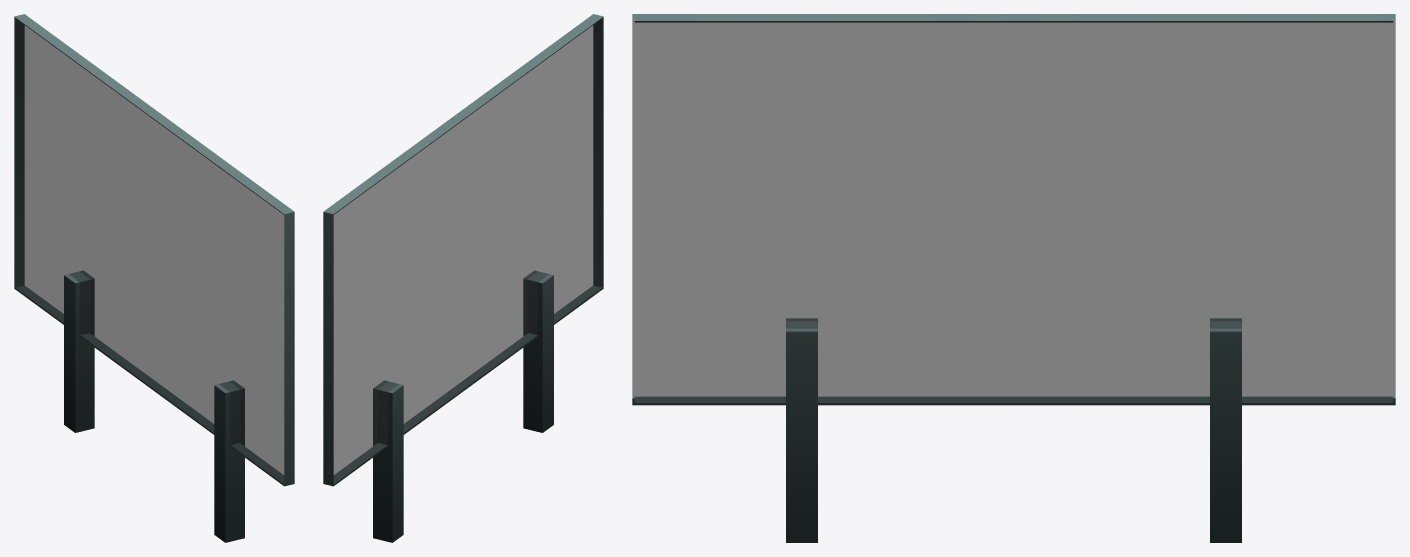
Rendered from TSP_House_Rail_01A.fbx.
The picture shows the model from 3 angles, left to right: view 1: azimuth 30°, elevation 25°; view 2: azimuth 150°, elevation 25°; view 3: azimuth 270°, elevation 25°; orthographic projection. The views are drawn at different scales.
Visible parts, largest first — view 1: TSP_House_Rail_01A; view 2: TSP_House_Rail_01A; view 3: TSP_House_Rail_01A.
Part boxes in pixels (bbox=[...]): TSP_House_Rail_01A: bbox=[14, 14, 294, 542]; TSP_House_Rail_01A: bbox=[323, 14, 603, 542]; TSP_House_Rail_01A: bbox=[632, 14, 1395, 542].
Size of the model in its own units: 0.075 by 1.35 by 1.8.
